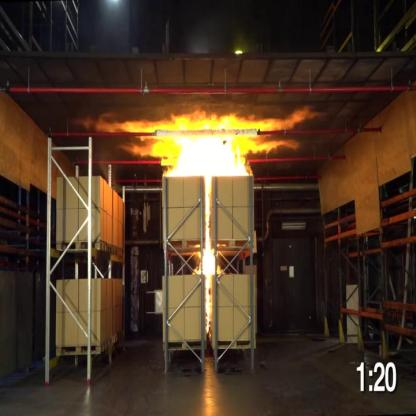fire: (77, 101, 317, 176), (192, 181, 224, 341)
